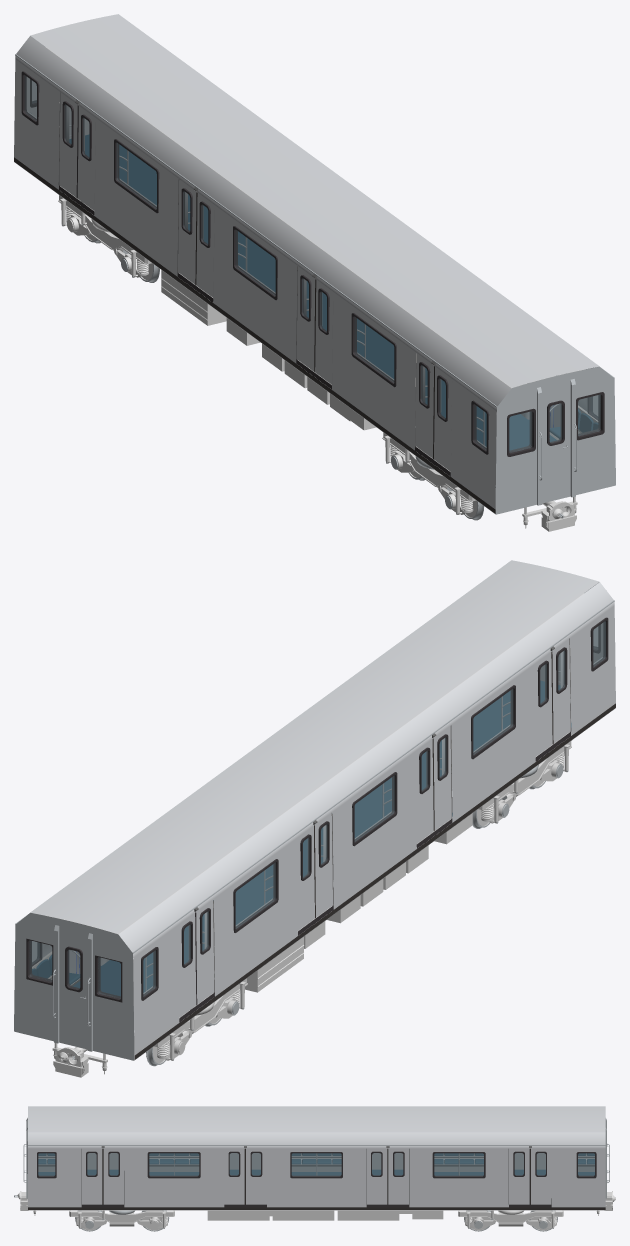
File: pilot-geometry.glb
3 views of the same model, one above another, from view 1: azimuth 30°, elevation 25°; view 2: azimuth 150°, elevation 25°; view 3: azimuth 270°, elevation 25° (orthographic). The views are drawn at different scales.
Parts seen in each view (by area): view 1: Mesh492.008, Mesh589.001, Mesh253.001, Mesh560.001, Mesh524.002, Cube.082, Cube.080, Cube.081, Mesh11.001, Mesh511.001, Mesh31.001, Cube.122 (+8 smaller); view 2: Mesh492.008, Mesh589.001, Mesh584.001, Mesh253.002, Mesh510.002, Cube.081, Cube.082, Cube.080, Mesh11.001, Mesh511.001, Mesh27.001, Cube.130 (+8 smaller); view 3: Mesh492.008, Mesh492.009, Cube.042, Cube.075, Cube.024, Mesh589.001, Mesh5.001, Mesh4.001, Mesh9.001, Mesh256.001, Mesh278.001, Mesh283.001 (+24 smaller).
Boxes of the visible parts, x1=… form: Mesh492.008: x1=14, y1=14, x2=599, y2=514; Mesh589.001: x1=69, y1=134, x2=556, y2=450; Mesh253.001: x1=495, y1=376, x2=555, y2=514; Mesh560.001: x1=555, y1=366, x2=615, y2=499; Mesh524.002: x1=542, y1=395, x2=570, y2=493; Cube.082: x1=116, y1=143, x2=156, y2=208; Cube.080: x1=354, y1=317, x2=394, y2=382; Cube.081: x1=235, y1=230, x2=275, y2=295; Mesh11.001: x1=161, y1=270, x2=226, y2=325; Mesh511.001: x1=15, y1=54, x2=497, y2=407; Mesh31.001: x1=541, y1=500, x2=576, y2=531; Cube.122: x1=509, y1=411, x2=532, y2=452; Mesh492.008: x1=30, y1=560, x2=615, y2=1060; Mesh589.001: x1=73, y1=681, x2=571, y2=995; Mesh584.001: x1=74, y1=922, x2=134, y2=1060; Mesh253.002: x1=14, y1=913, x2=73, y2=1045; Mesh510.002: x1=59, y1=941, x2=87, y2=1039; Cube.081: x1=354, y1=775, x2=394, y2=841; Cube.082: x1=235, y1=862, x2=275, y2=928; Cube.080: x1=473, y1=689, x2=513, y2=754; Mesh11.001: x1=245, y1=937, x2=303, y2=992; Mesh511.001: x1=132, y1=600, x2=614, y2=953; Mesh27.001: x1=53, y1=1047, x2=88, y2=1077; Cube.130: x1=29, y1=940, x2=52, y2=981; Mesh492.008: x1=28, y1=1106, x2=605, y2=1210; Mesh492.009: x1=87, y1=1153, x2=545, y2=1169; Cube.042: x1=291, y1=1153, x2=341, y2=1176; Cube.075: x1=149, y1=1153, x2=199, y2=1176; Cube.024: x1=434, y1=1153, x2=483, y2=1176; Mesh589.001: x1=38, y1=1170, x2=594, y2=1175; Mesh5.001: x1=207, y1=1210, x2=269, y2=1220; Mesh4.001: x1=337, y1=1210, x2=399, y2=1220; Mesh9.001: x1=272, y1=1210, x2=334, y2=1220; Mesh256.001: x1=511, y1=1210, x2=563, y2=1229; Mesh278.001: x1=122, y1=1210, x2=174, y2=1229; Mesh283.001: x1=69, y1=1210, x2=121, y2=1229.
Bounding box in the file's own units: 2.67 × 3.63 × 19.13.
